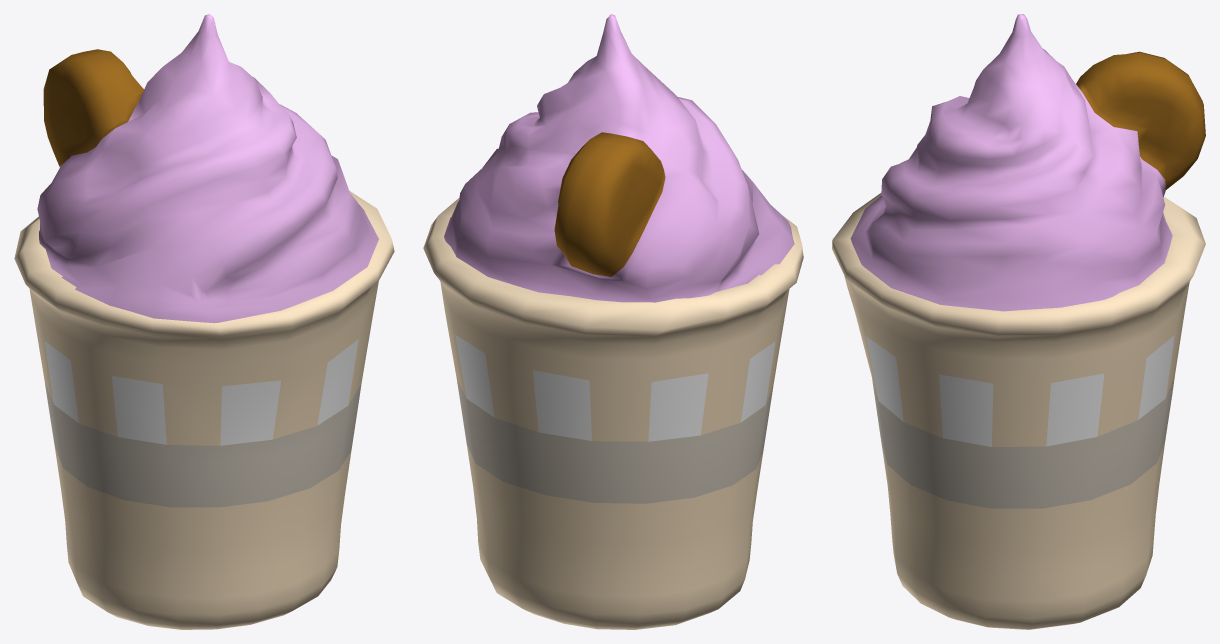
The model's file is IceCream_0001_0010.fbx.
3 renders of one model, left to right at view 1: azimuth 30°, elevation 25°; view 2: azimuth 150°, elevation 25°; view 3: azimuth 270°, elevation 25°, orthographic.
Visible parts, largest first — view 1: Ice_0001_0010; view 2: Ice_0001_0010; view 3: Ice_0001_0010.
Boxes of the visible parts, x1=… form: Ice_0001_0010: x1=14, y1=14, x2=394, y2=629; Ice_0001_0010: x1=423, y1=14, x2=803, y2=629; Ice_0001_0010: x1=832, y1=14, x2=1205, y2=629.
Size of the model in its own units: 0.084 by 0.1377 by 0.0816.
Materials: 1 (1 with a texture image).
